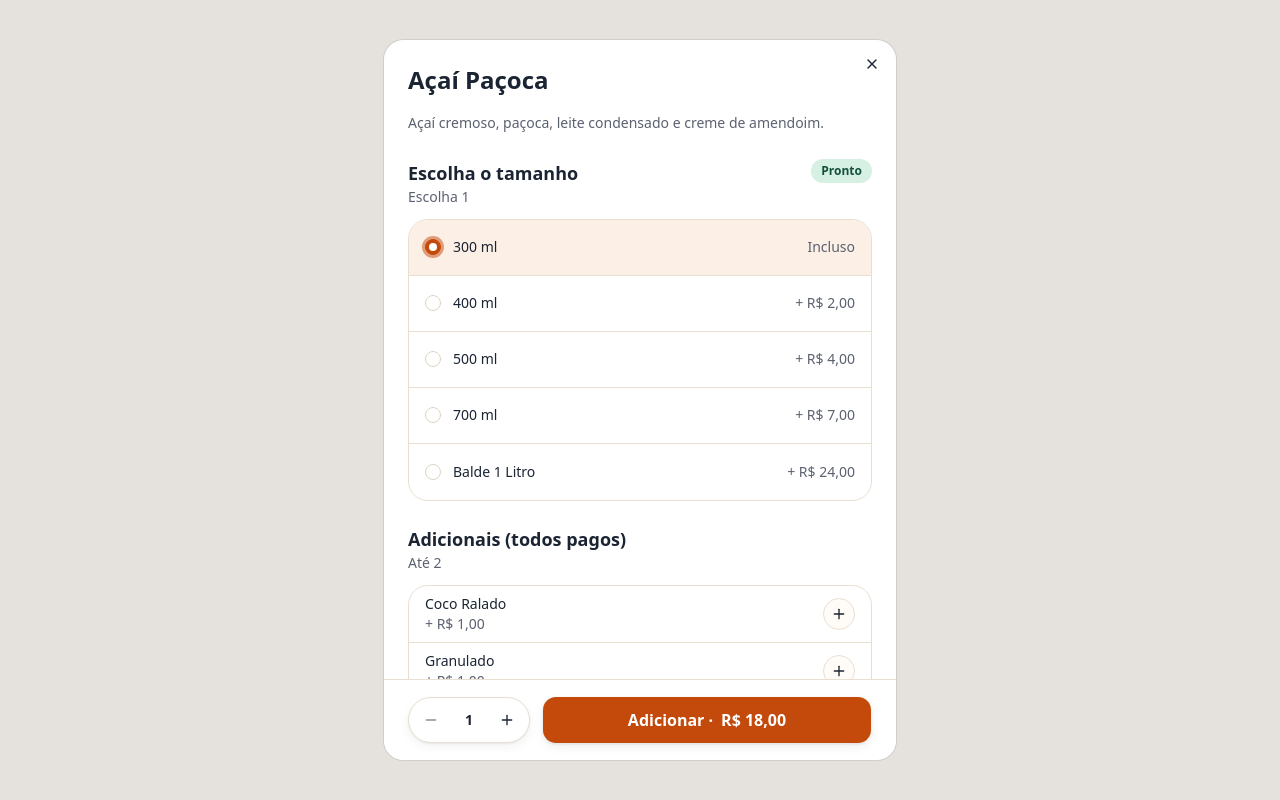
Scenario: ModalProduto › o limite do grupo bloqueia o + quando atingido
Click the button named "Adicionar Coco Ralado". click: (839, 614)
box: [823, 598, 855, 630]
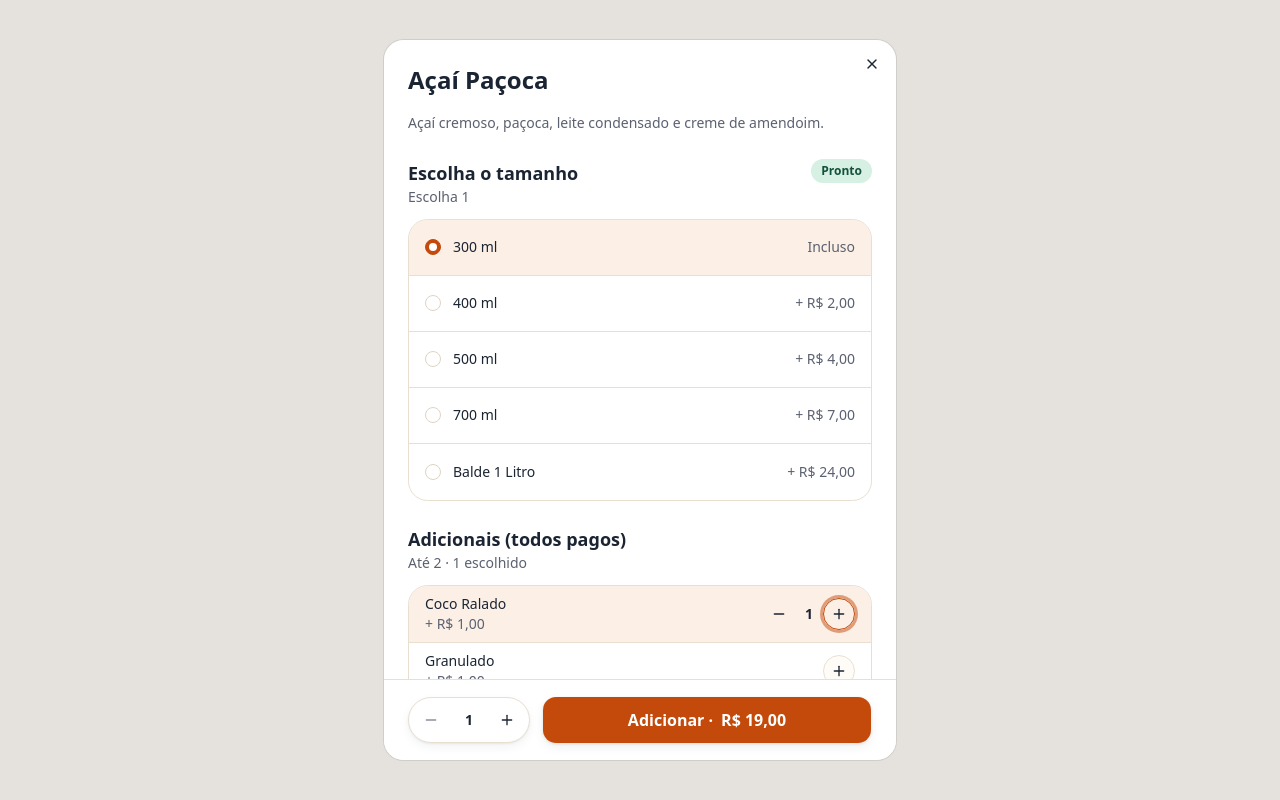
Click the button named "Adicionar Granulado". click: (839, 671)
box: [823, 655, 855, 687]
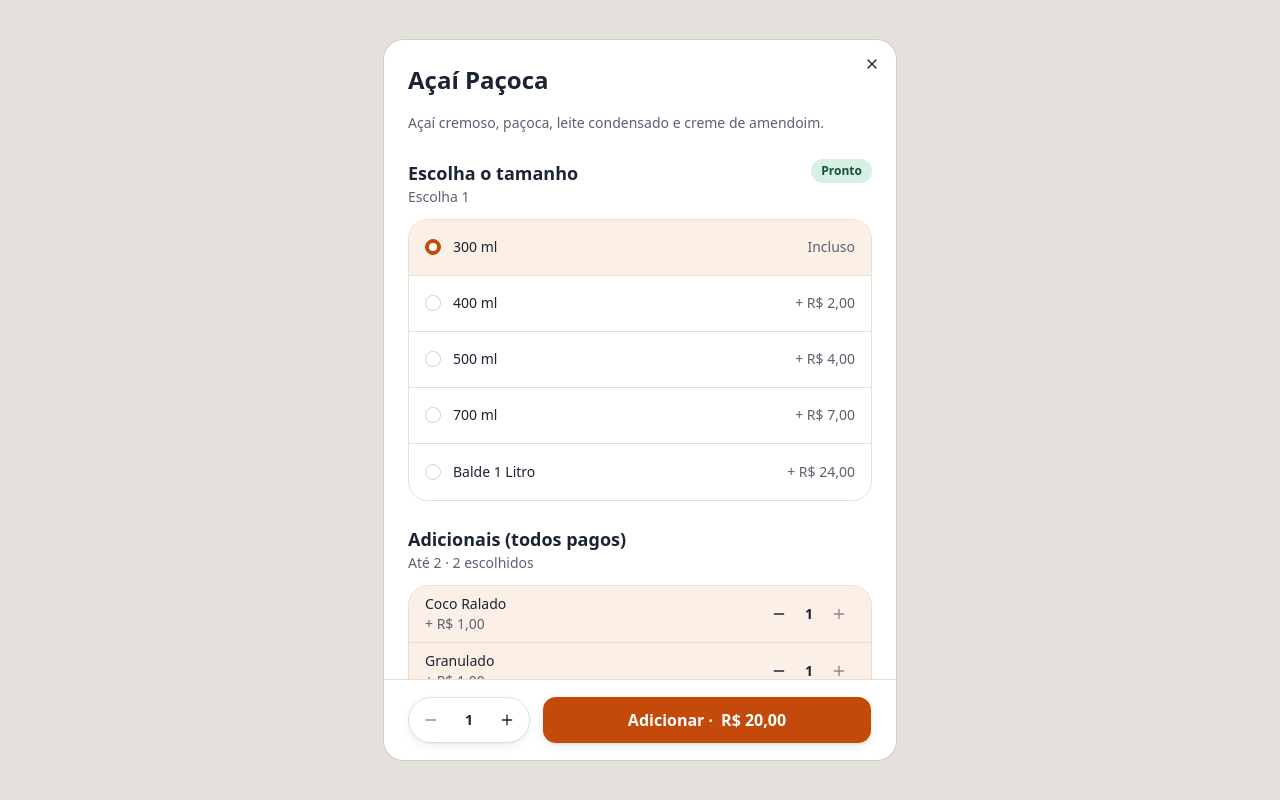
Expected: the button named "Adicionar Sucrilhos" is disabled, [823, 712, 855, 744]
Now the text "Até 2 · 2 escolhidos" is shown, box [408, 553, 534, 572]
